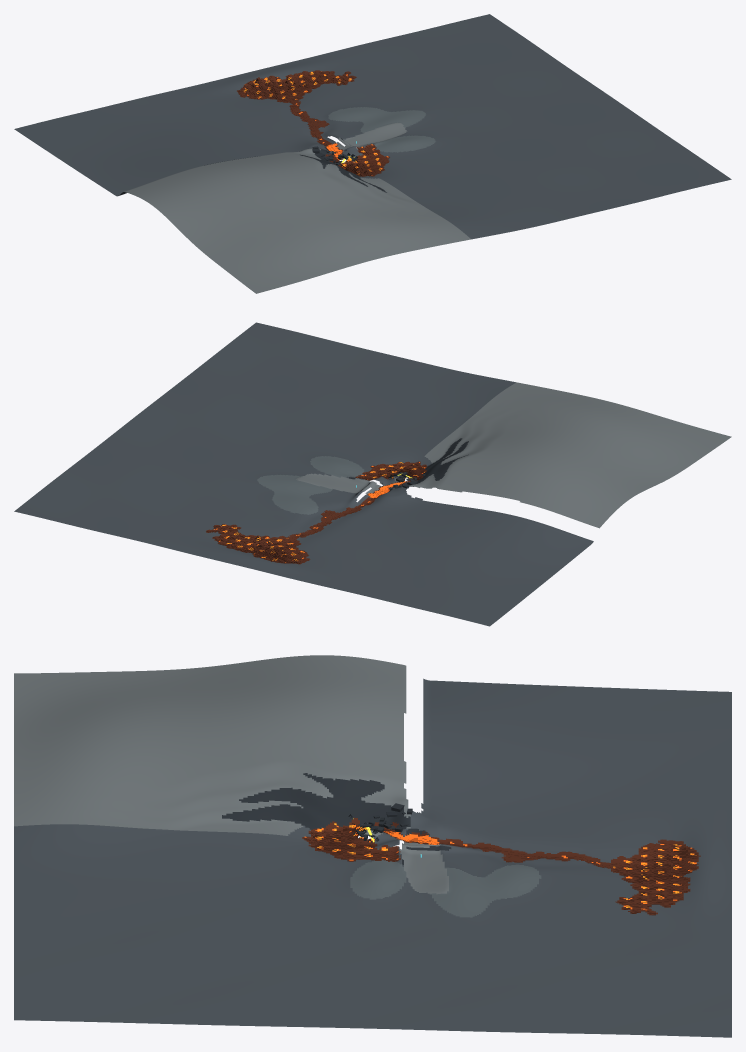
The model's file is ember-breached-rift-bench-graybox-r3.glb.
3 renders of one model, top to bottom at view 1: azimuth 30°, elevation 25°; view 2: azimuth 150°, elevation 25°; view 3: azimuth 270°, elevation 25°, orthographic. The views are drawn at different scales.
Parts seen in each view (by area): view 1: EMBER_Terrain, EMBER_LavaSimulatorDeposit; view 2: EMBER_Terrain, EMBER_LavaSimulatorDeposit; view 3: EMBER_Terrain, EMBER_LavaSimulatorDeposit, EMBER_TalusApron.
Boxes of the visible parts, box(x1,y1,x2,y2) form: EMBER_Terrain: box(14, 14, 731, 293); EMBER_LavaSimulatorDeposit: box(237, 70, 389, 176); EMBER_Terrain: box(14, 322, 731, 626); EMBER_LavaSimulatorDeposit: box(206, 461, 426, 564); EMBER_Terrain: box(14, 655, 731, 1037); EMBER_LavaSimulatorDeposit: box(302, 817, 700, 915); EMBER_TalusApron: box(353, 803, 412, 840).
Bounding box in the file's own units: 380 × 29.49 × 335.
